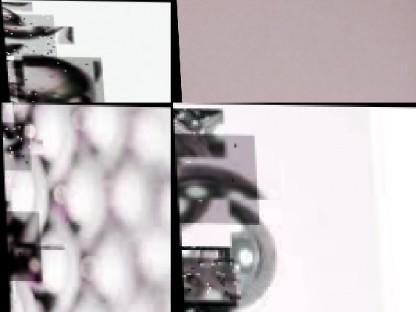ironball: (171, 133, 255, 224), (29, 213, 78, 310), (227, 213, 273, 311), (11, 56, 101, 102), (9, 149, 49, 246), (177, 257, 232, 307), (3, 211, 38, 281), (0, 14, 54, 56), (0, 122, 29, 171)
